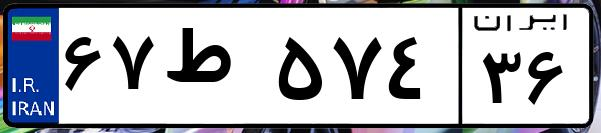3: (475, 38, 525, 113)
4: (385, 28, 445, 110)
5: (270, 28, 330, 110)
6: (57, 26, 110, 100), (525, 38, 570, 115)
7: (330, 28, 385, 110), (110, 28, 158, 98)
ط: (158, 20, 270, 120)
